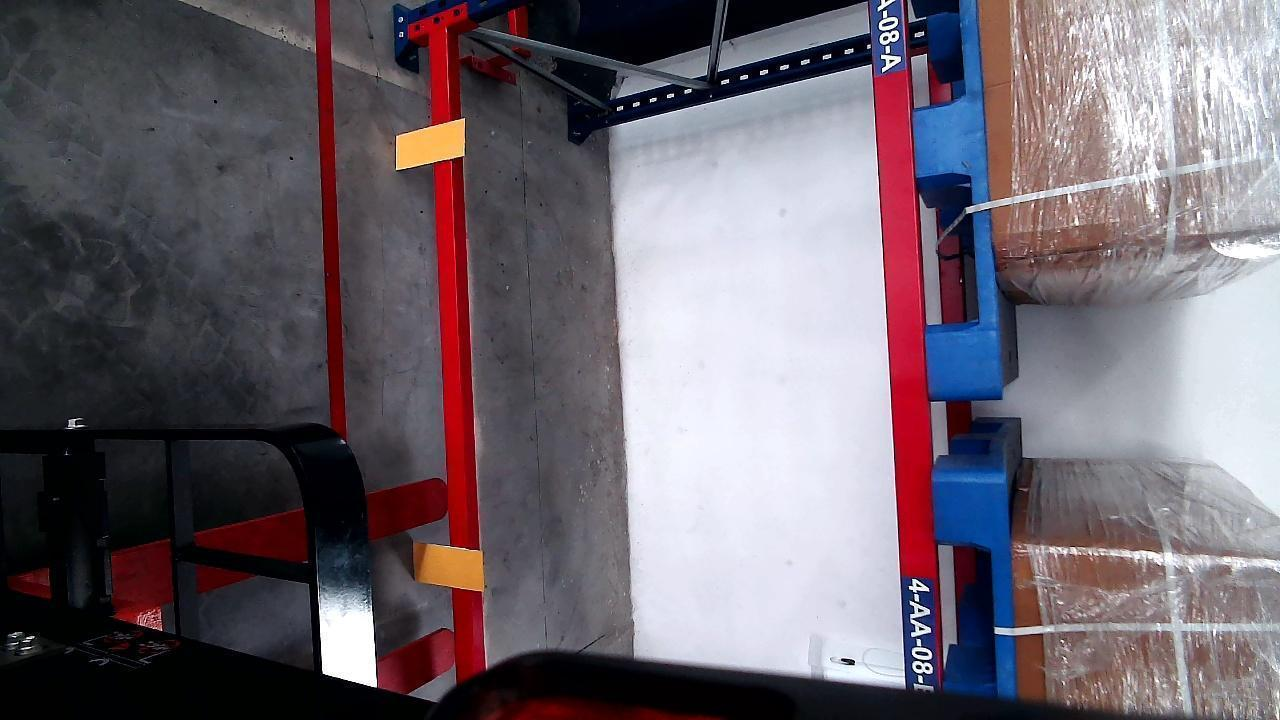red_line: (314, 1, 348, 442)
